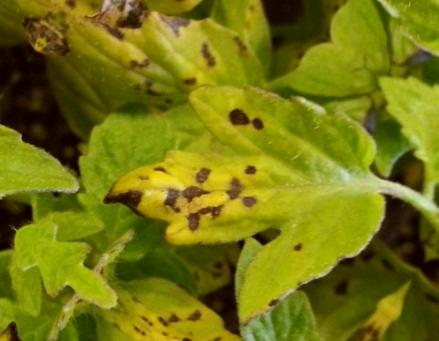Tomato leaf: (323, 57, 439, 205)
Tomato leaf bacterial spot: (93, 24, 439, 341), (86, 234, 276, 341)
